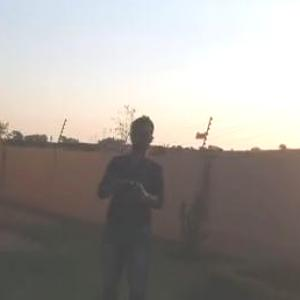follow: (88, 109, 172, 299)
